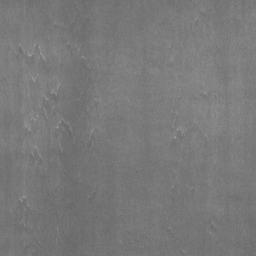Silk spot: (4, 0, 111, 255), (175, 38, 231, 106), (169, 108, 232, 152), (125, 212, 188, 255), (135, 47, 173, 86), (191, 0, 222, 29), (218, 195, 252, 208), (205, 215, 229, 232), (168, 0, 195, 12)
